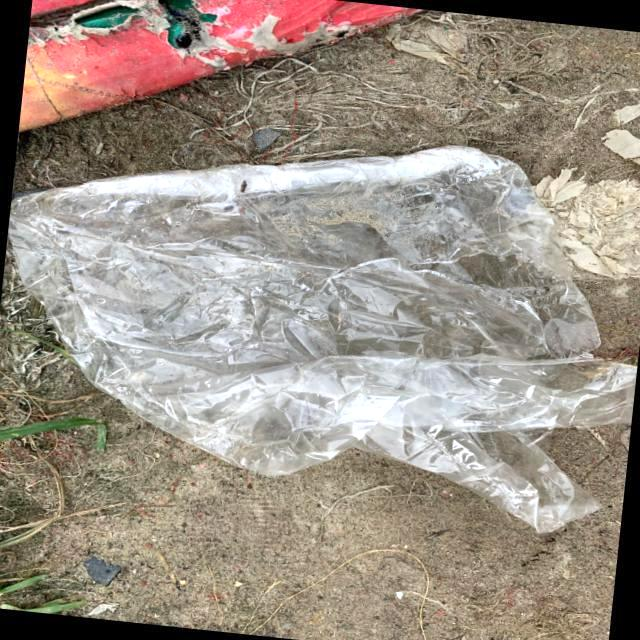polythene: (0, 117, 640, 528)
